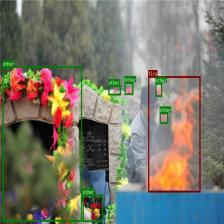fire: (148, 76, 200, 192)
